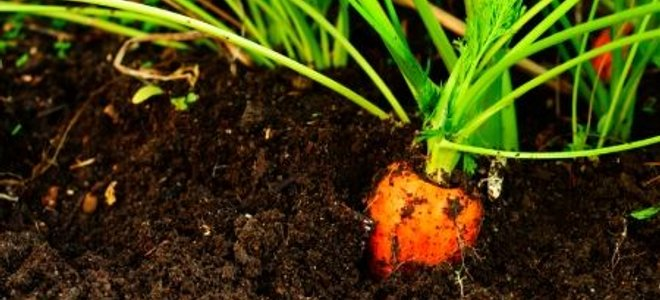carrot: (326, 65, 565, 300)
